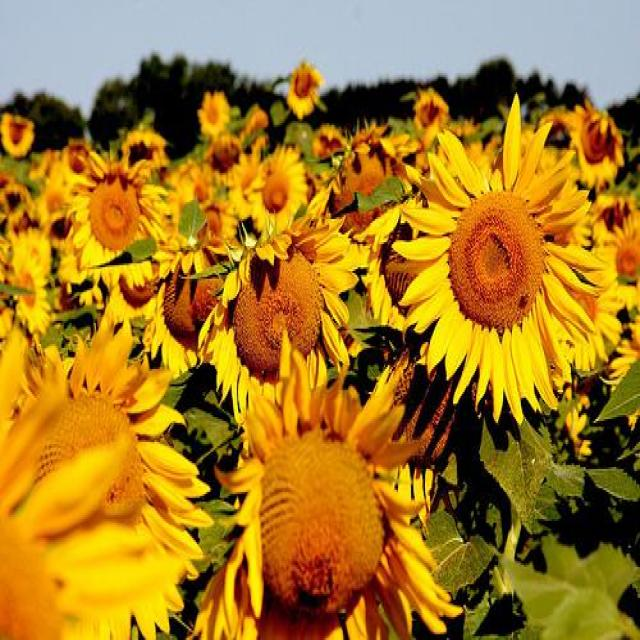sunflower: (224, 380, 451, 640), (406, 114, 598, 410), (1, 321, 168, 640), (210, 203, 352, 412), (65, 162, 162, 270), (145, 252, 227, 376), (327, 130, 422, 227), (591, 190, 639, 329), (242, 146, 310, 242), (576, 97, 626, 187), (286, 64, 325, 114), (1, 110, 34, 154), (199, 91, 229, 132)
